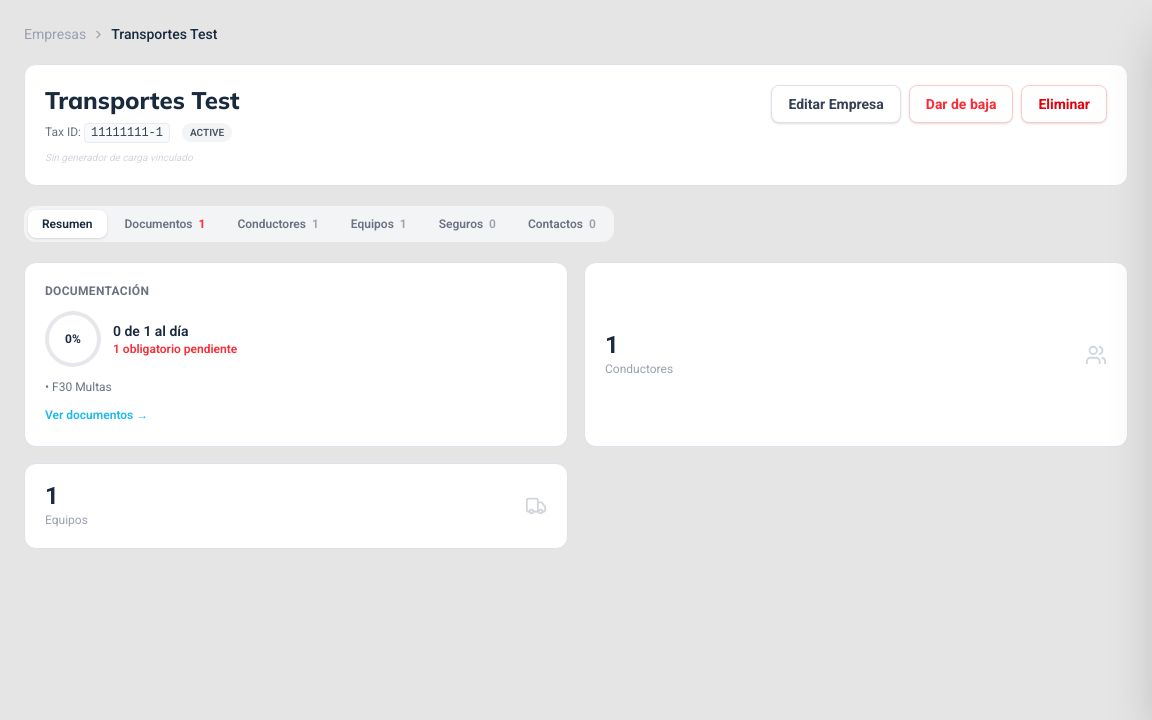
Test: EmpresaDetailPage › shows the alert banner when there is a mandatory MISSING record
Click the button "Documentos1": [165, 224] box [110,210,219,238]
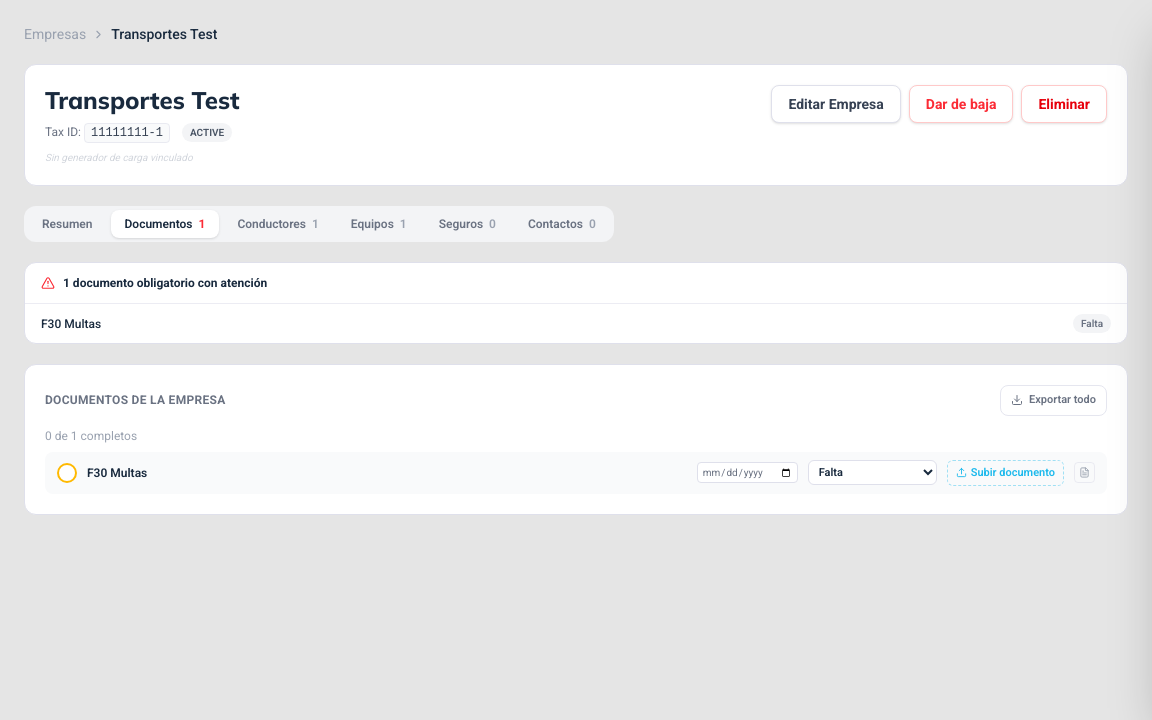
Now the text "1 documento obligatorio con atención" is shown, box [63,275,267,291]
Now the text "F30 Multas" in the row of "Falta" is shown, box [41,316,101,330]
